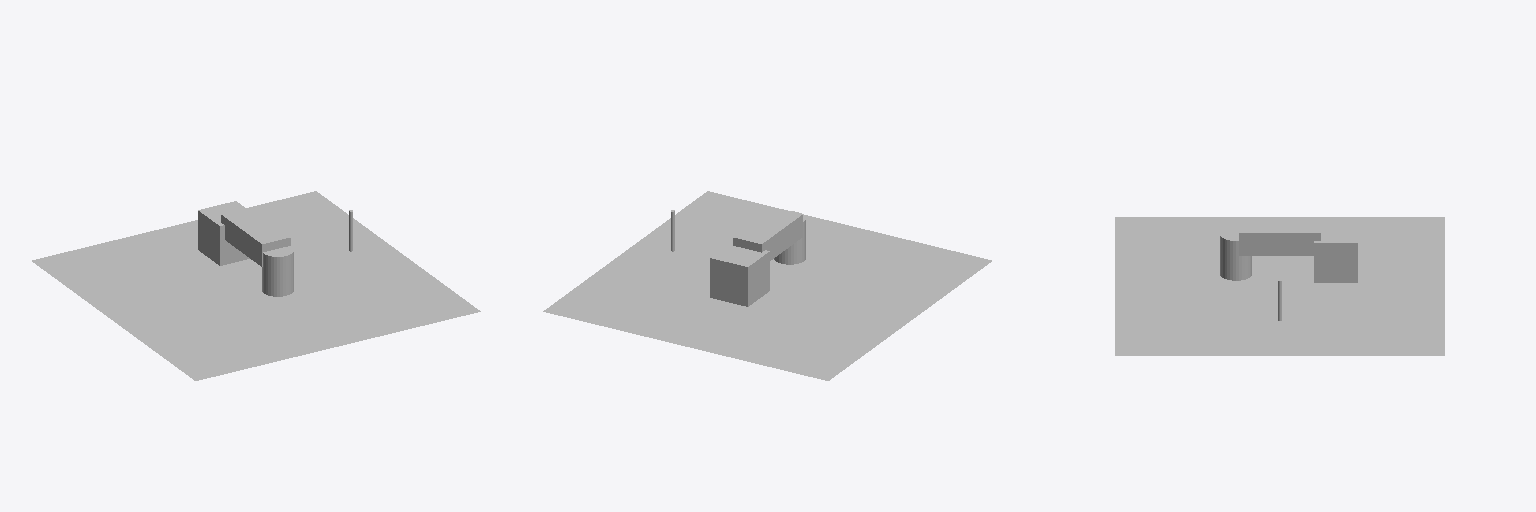
Rendered from 2bounce_test_geo3.obj.
The picture shows the model from 3 angles: view 1: azimuth 30°, elevation 25°; view 2: azimuth 150°, elevation 25°; view 3: azimuth 270°, elevation 25°; orthographic projection.
Visible parts, largest first — view 1: Plane, Cube.001_Cube.008, Cube_Cube.007, Cylinder_Cylinder.001; view 2: Plane, Cube_Cube.007, Cube.001_Cube.008, Cylinder_Cylinder.001; view 3: Plane, Cube.001_Cube.008, Cube_Cube.007, Cylinder_Cylinder.001.
Boxes of the visible parts, <box> form: Plane: <box>32,191,480,380</box>; Cube.001_Cube.008: <box>221,207,290,266</box>; Cube_Cube.007: <box>198,201,249,265</box>; Cylinder_Cylinder.001: <box>262,246,293,296</box>; Plane: <box>543,191,991,380</box>; Cube_Cube.007: <box>710,242,769,306</box>; Cube.001_Cube.008: <box>733,207,802,260</box>; Cylinder_Cylinder.001: <box>774,211,805,264</box>; Plane: <box>1115,217,1444,355</box>; Cube.001_Cube.008: <box>1239,219,1320,255</box>; Cube_Cube.007: <box>1314,225,1357,282</box>; Cylinder_Cylinder.001: <box>1220,227,1251,280</box>.
Size of the model in its own units: 15 by 3.03 by 15.